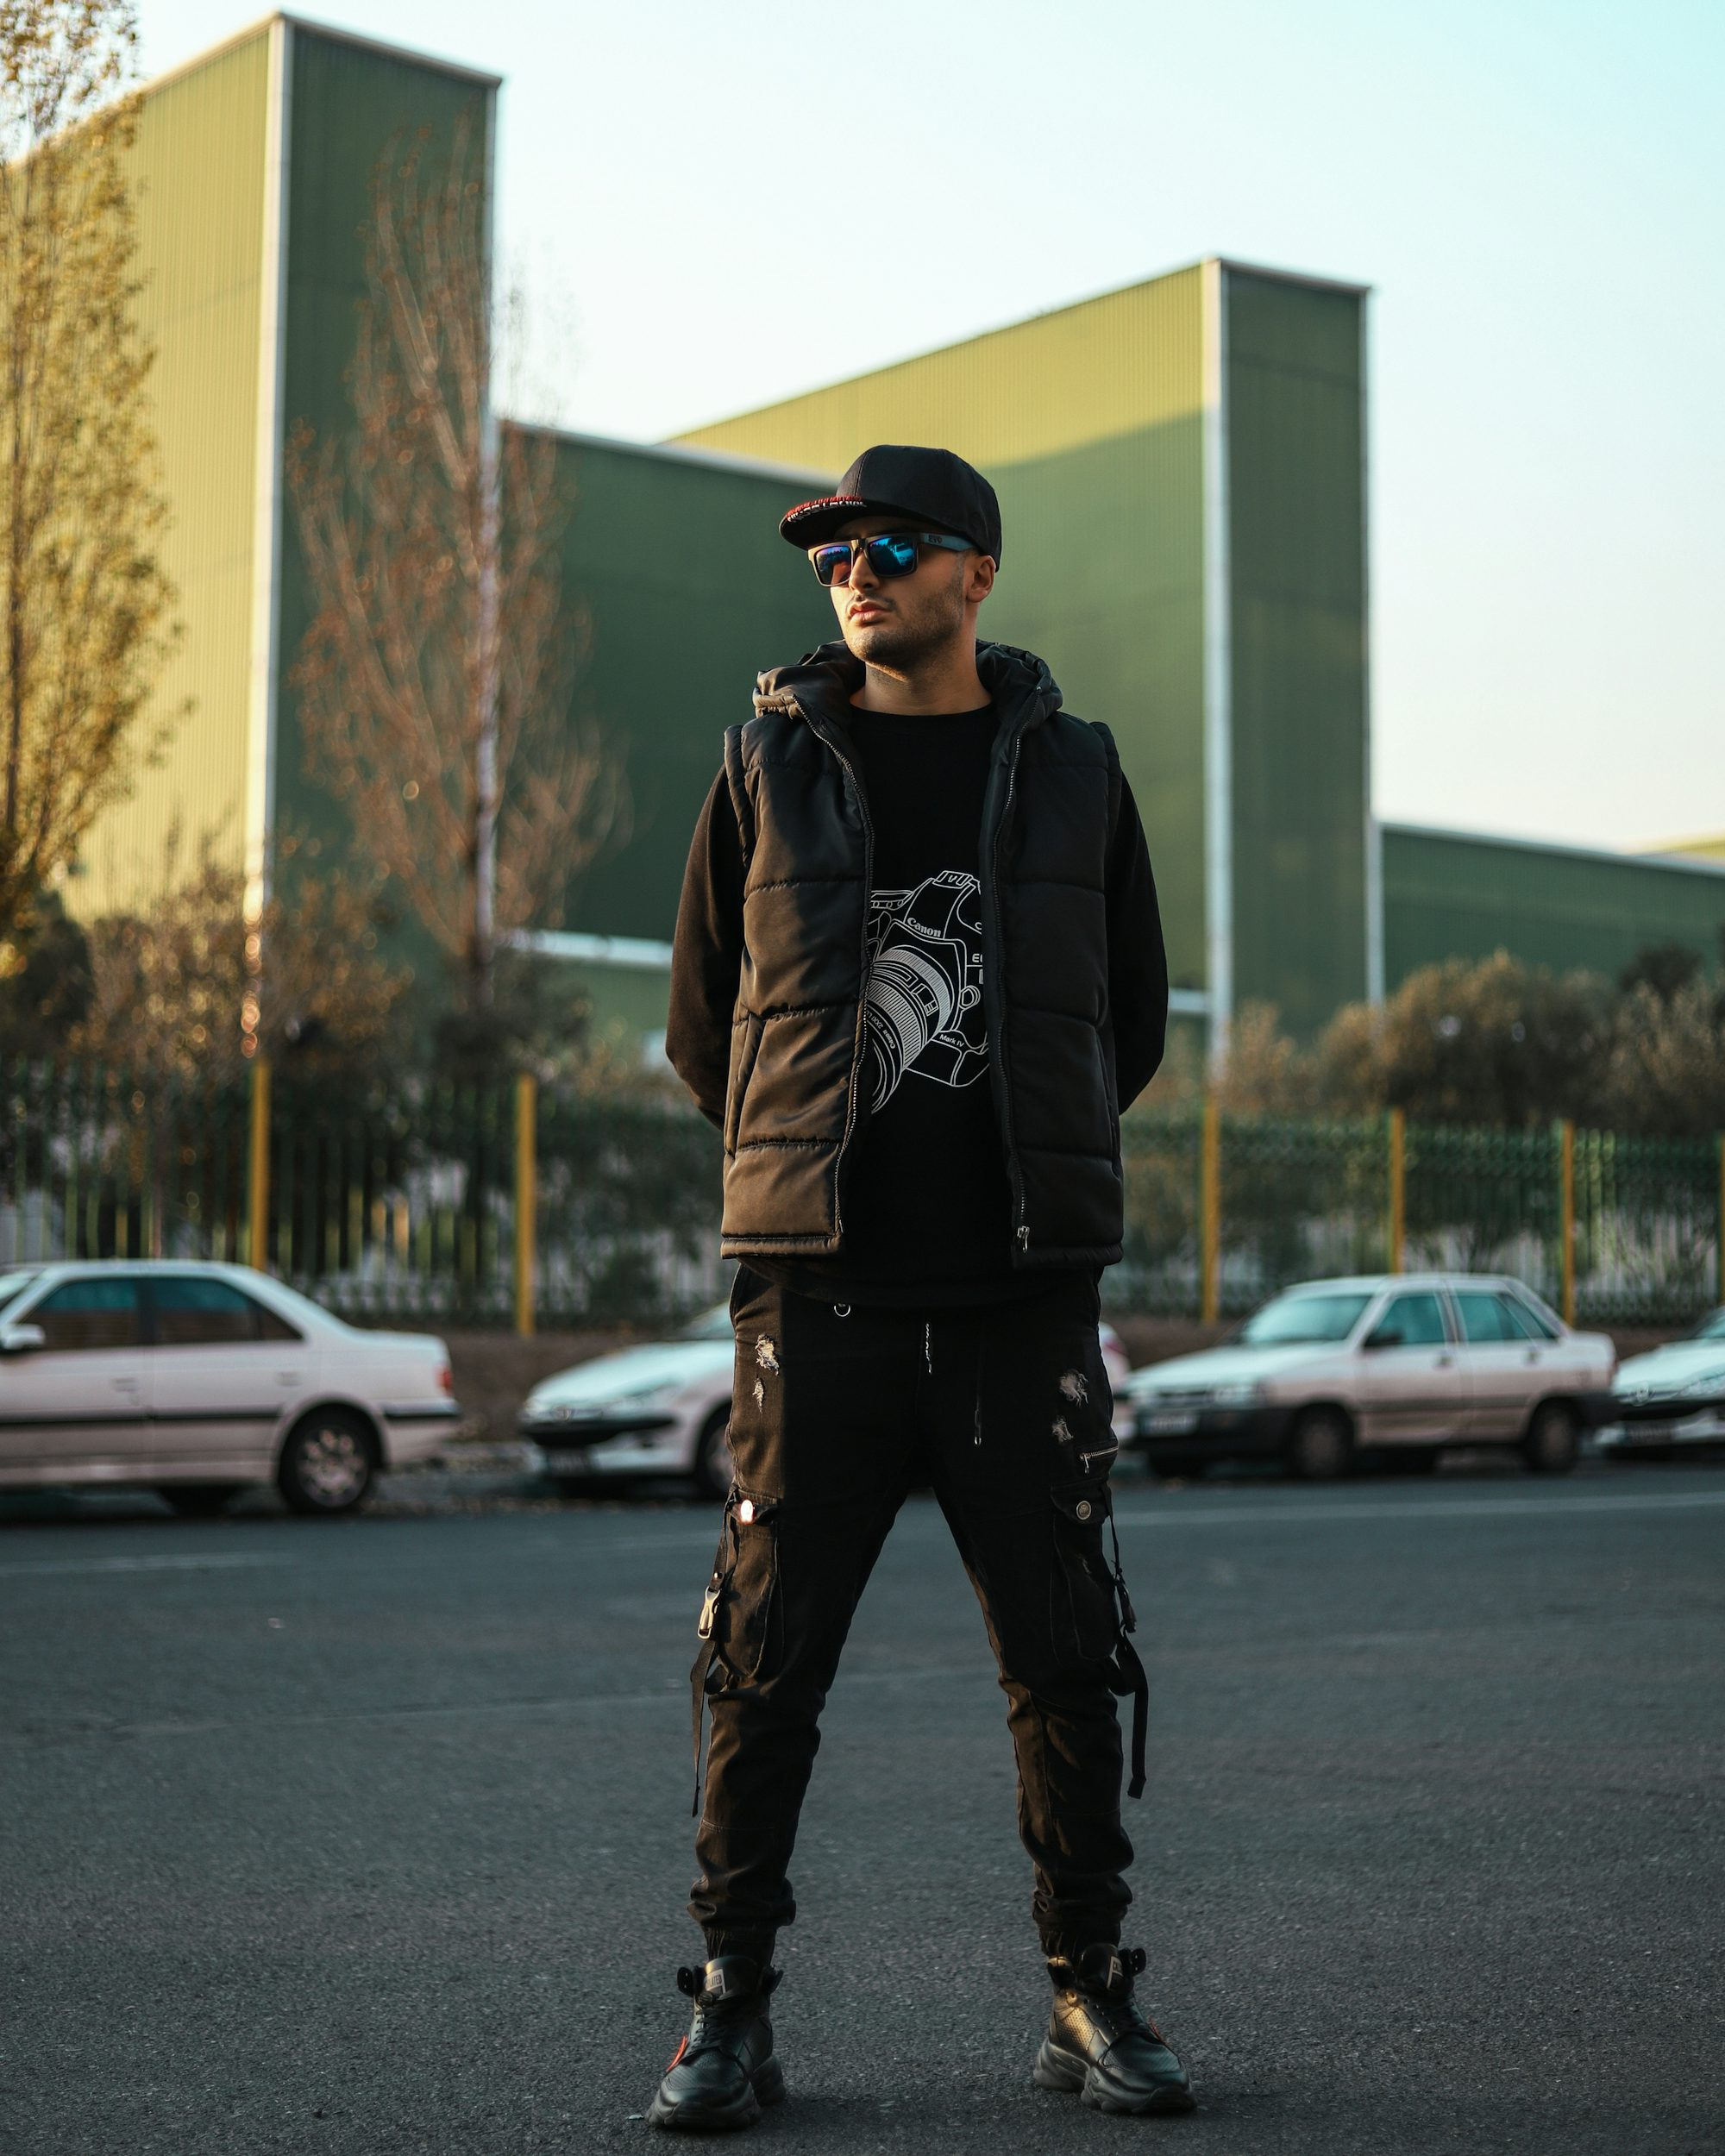person: (586, 428, 1285, 2156)
